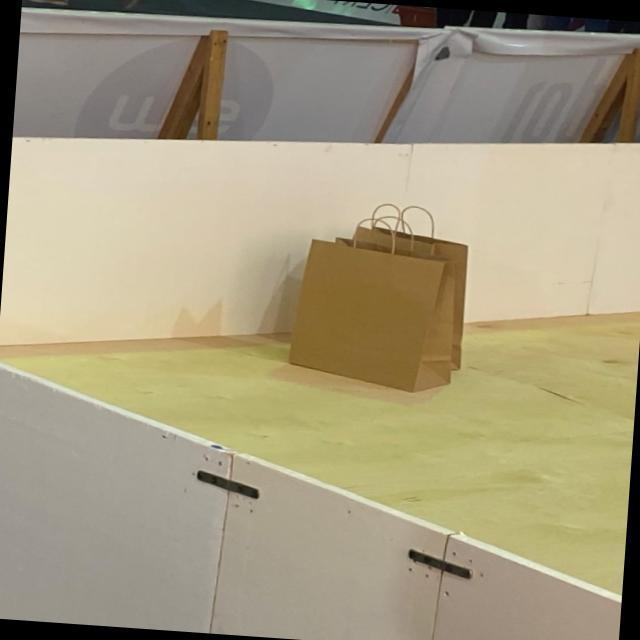Kardus: (287, 202, 468, 393)
